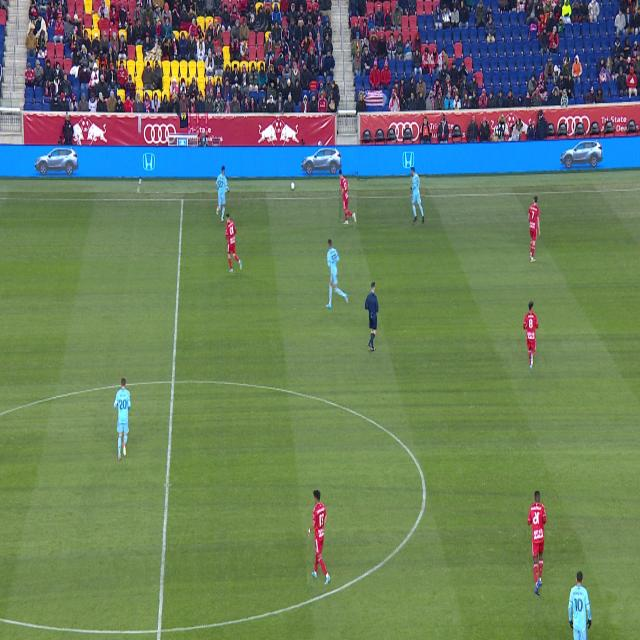player: (307, 491, 331, 585), (528, 492, 547, 594), (568, 571, 592, 640), (326, 239, 348, 308), (114, 377, 131, 461), (523, 301, 539, 369), (339, 170, 357, 225), (226, 213, 242, 273), (528, 195, 541, 263), (411, 168, 425, 224), (216, 166, 229, 222)
referee: (365, 282, 378, 351)
